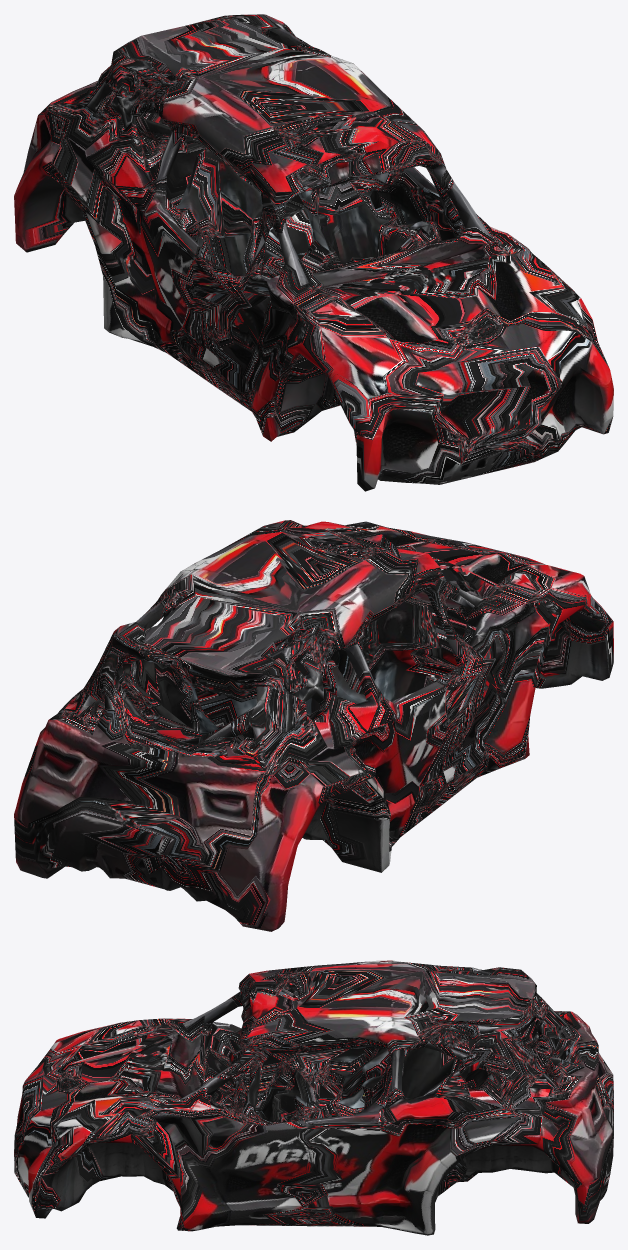
File: buggy_lo.glb
3 views of the same model, one above another, from view 1: azimuth 30°, elevation 25°; view 2: azimuth 150°, elevation 25°; view 3: azimuth 270°, elevation 25° (orthographic). The views are drawn at different scales.
Visible parts, largest first — view 1: geometry_0; view 2: geometry_0; view 3: geometry_0.
Boxes of the visible parts, x1,y1,x2,y2 form: geometry_0: [14, 14, 613, 491]; geometry_0: [14, 520, 613, 931]; geometry_0: [14, 960, 613, 1235].
Size of the model in its own units: 1.9 by 1.54 by 4.29.
Materials: 1 (1 with a texture image).
